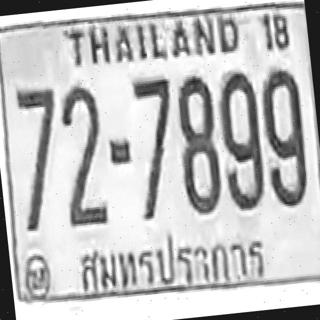N02: (54, 81, 109, 226), (56, 82, 108, 214)
N07: (11, 85, 66, 229), (130, 74, 182, 218), (15, 86, 62, 182), (130, 74, 176, 163)
N08: (172, 70, 224, 214)
N09: (258, 64, 310, 206), (215, 68, 267, 210)
P57: (70, 219, 276, 305)
